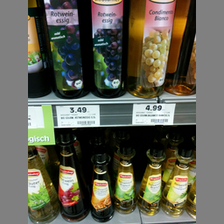vinegar: (41, 1, 91, 98), (131, 1, 176, 98), (88, 1, 129, 98), (27, 146, 61, 224), (58, 136, 88, 222), (86, 153, 116, 223), (162, 147, 191, 219), (142, 143, 166, 220), (114, 147, 138, 215)
